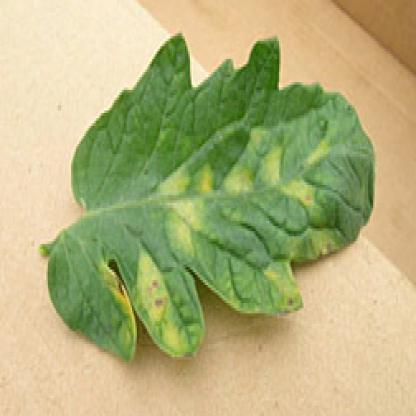tomato mold leaf: (33, 23, 381, 390)
